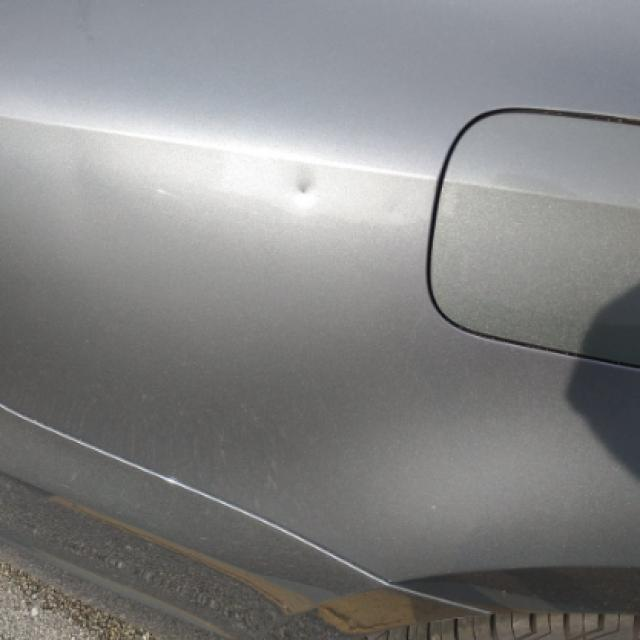dents: (275, 154, 334, 230)
